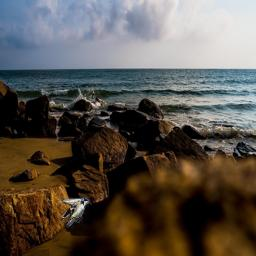Swallow: (58, 197, 89, 229)
